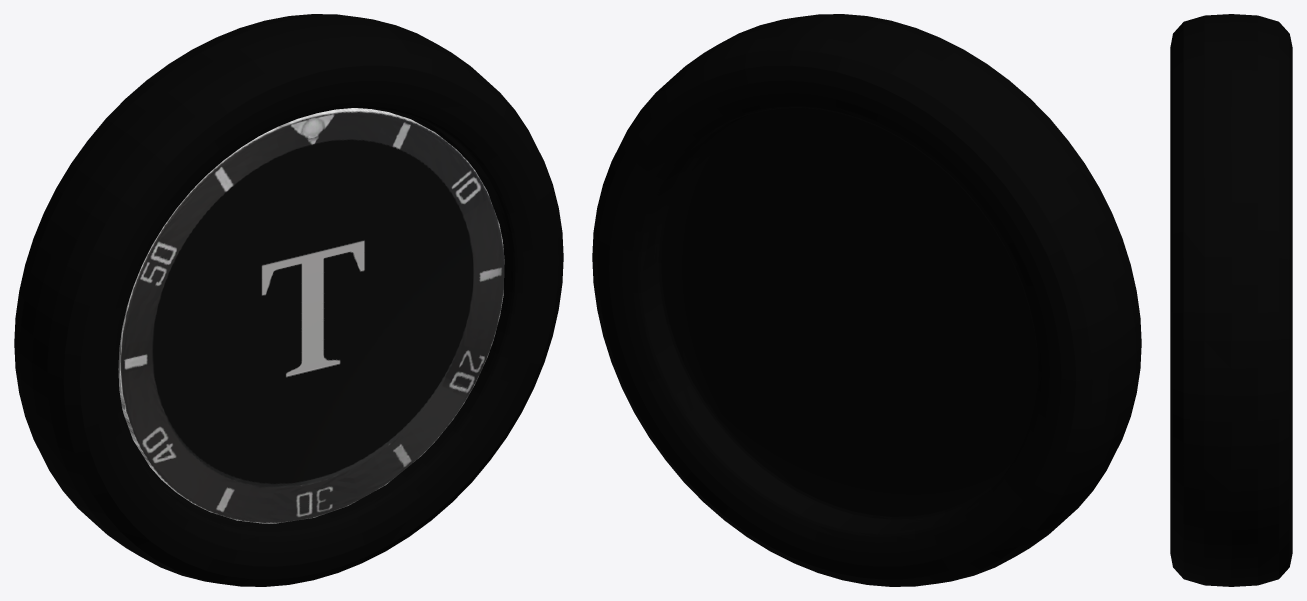
The model's file is TIME TOKEN UFFICILAE.glb.
The picture shows the model from 3 angles, left to right: view 1: azimuth 30°, elevation 25°; view 2: azimuth 150°, elevation 25°; view 3: azimuth 270°, elevation 25°; orthographic projection. The views are drawn at different scales.
Parts seen in each view (by area): view 1: Mesh_1, Mesh_0; view 2: Mesh_0; view 3: Mesh_0.
Boxes of the visible parts, left/top/right/bottom form: Mesh_1: left=118, top=108, right=504, bottom=523; Mesh_0: left=14, top=14, right=563, bottom=586; Mesh_0: left=592, top=14, right=1141, bottom=586; Mesh_0: left=1170, top=14, right=1292, bottom=586.
Size of the model in its own units: 3.1 by 3.1 by 0.6628.
2 materials, 1 textured.
